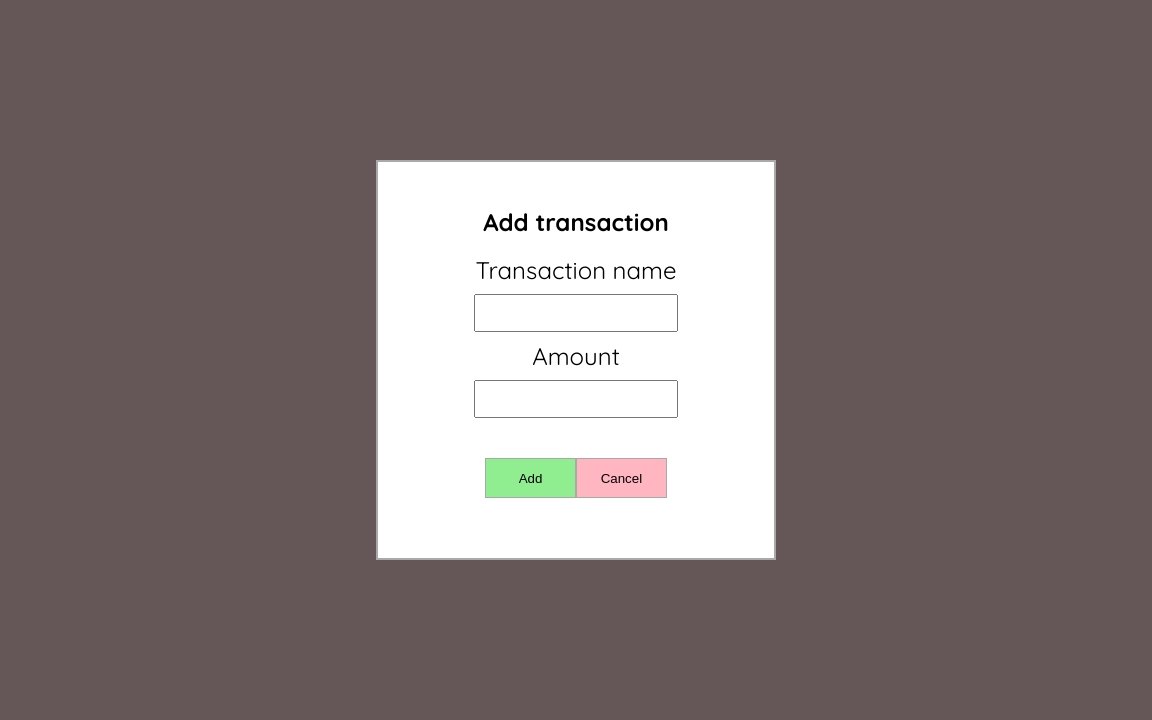
Test case: should the error message show or hide if the valid amount is passed or not
Click the button with test id "submit-button". click: click(531, 478)
box: 485,458 -> 576,498
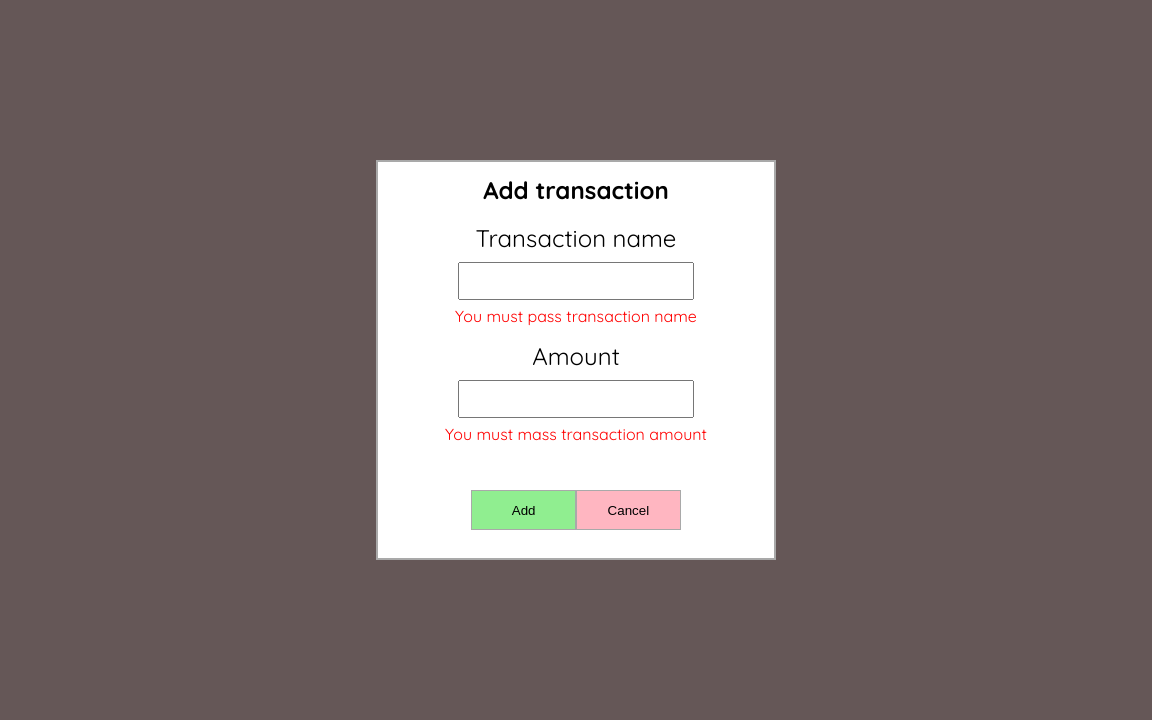
Expected: the text with test id "amount-error-text" reads "You must mass transaction amount", 445,424 -> 707,444
Type "534" into the field with test id "amount-input". click: (576, 399)
box: 458,380 -> 694,418
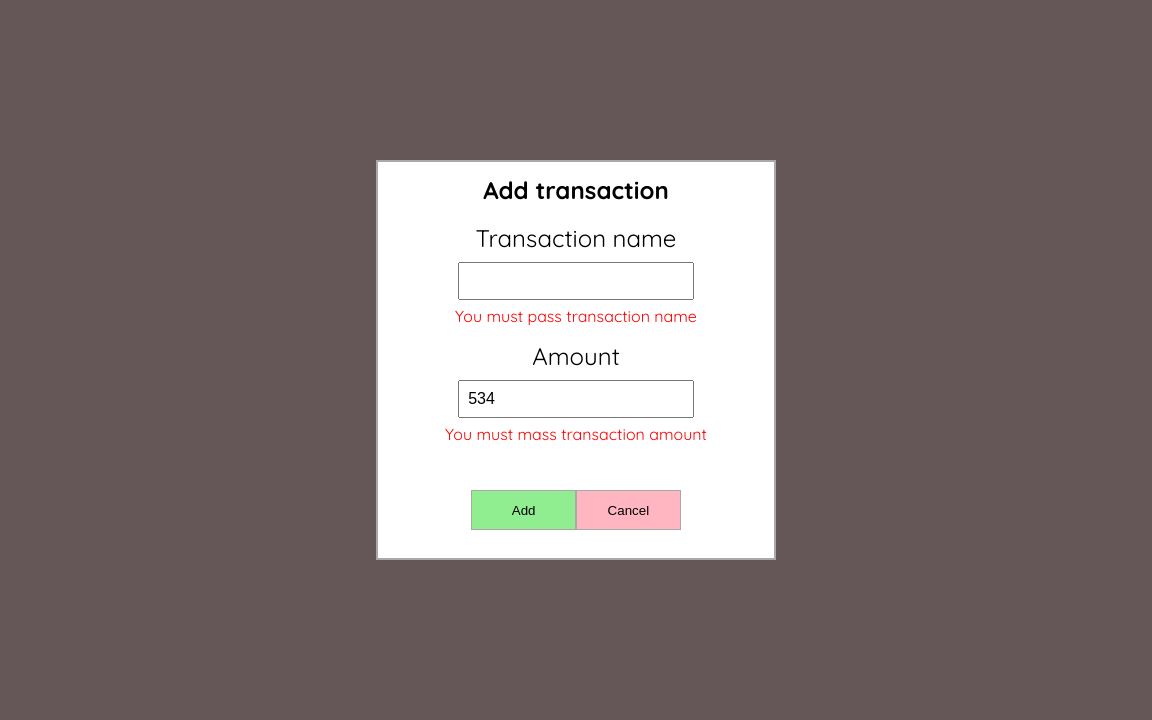
Click the button with test id "submit-button". click: click(524, 510)
box: 471,490 -> 576,530
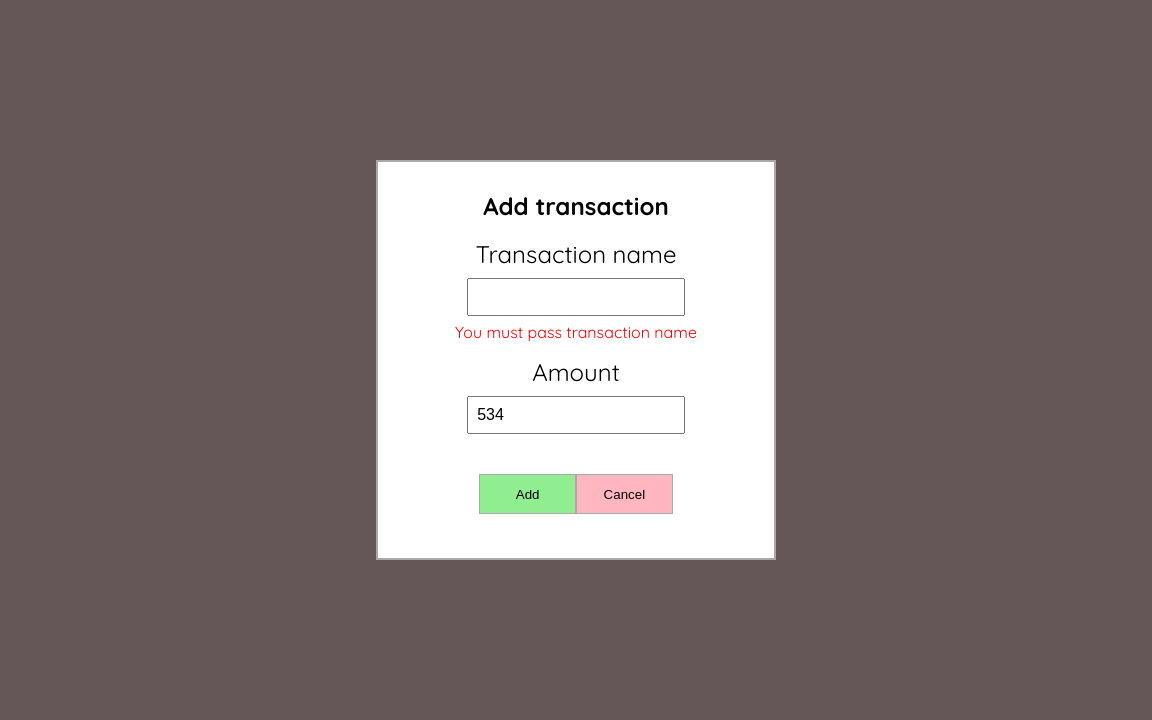
Expected: the text with test id "amount-error-text" is gone
Replace the text in the field with test id "amount-input" with "some text". click: (576, 415)
box: 467,396 -> 685,434
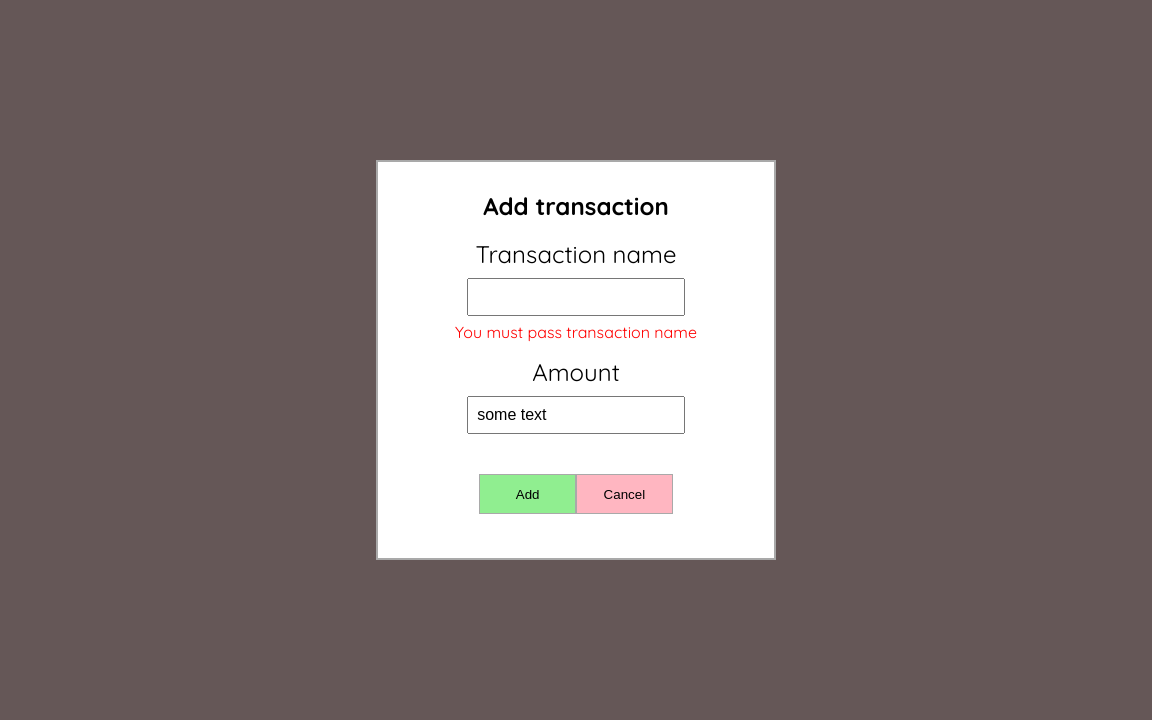
Click the button with test id "submit-button". click: click(528, 494)
box: 479,474 -> 576,514
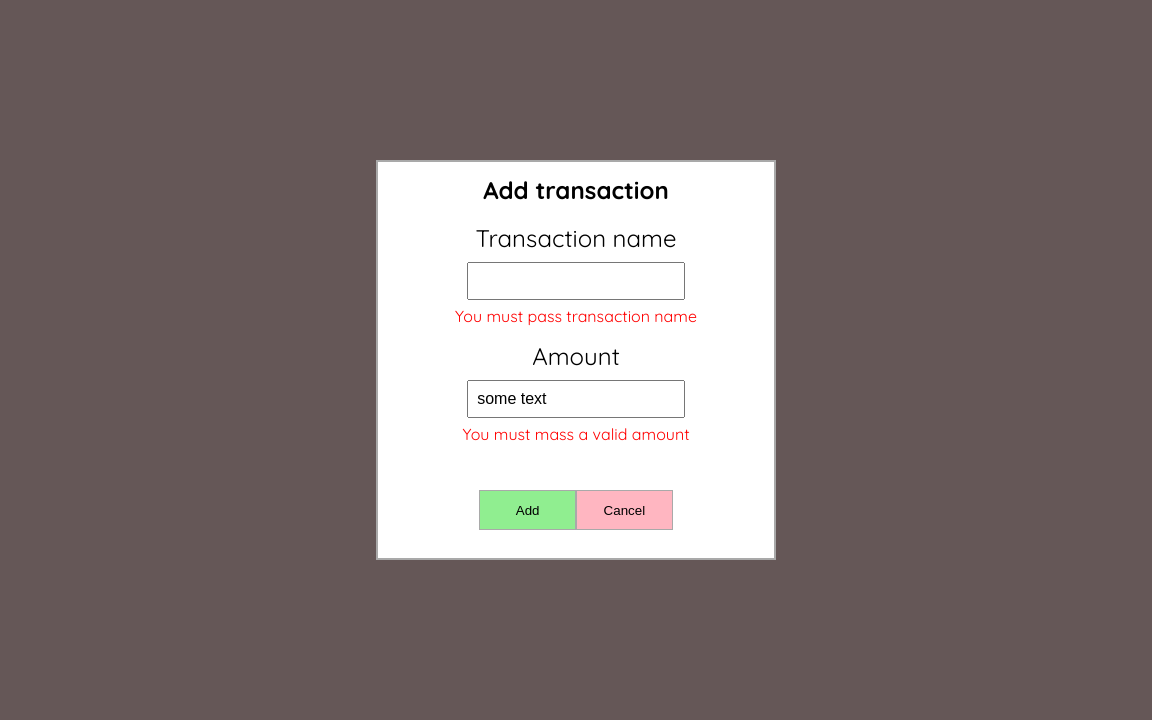
Expected: the text with test id "amount-error-text" reads "You must mass a valid amount", 462,424 -> 690,444
